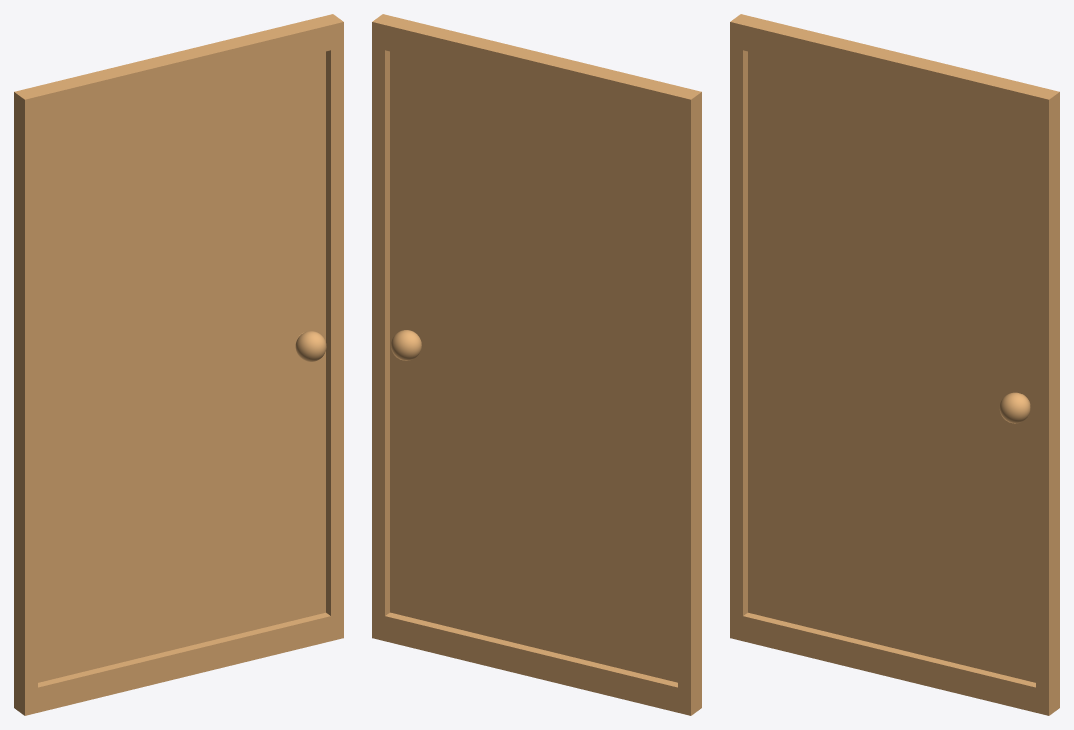
Rendered from Door.fbx.
The picture shows the model from 3 angles, left to right: view 1: azimuth 30°, elevation 25°; view 2: azimuth 150°, elevation 25°; view 3: azimuth 330°, elevation 25°; orthographic projection.
Parts seen in each view (by area): view 1: Cube.001; view 2: Cube.001; view 3: Cube.001.
Part boxes in pixels (<box>): Cube.001: <box>14,14,343,715</box>; Cube.001: <box>372,14,701,715</box>; Cube.001: <box>730,14,1059,715</box>.
Bounding box in the file's own units: 255 × 470 × 35.91.
